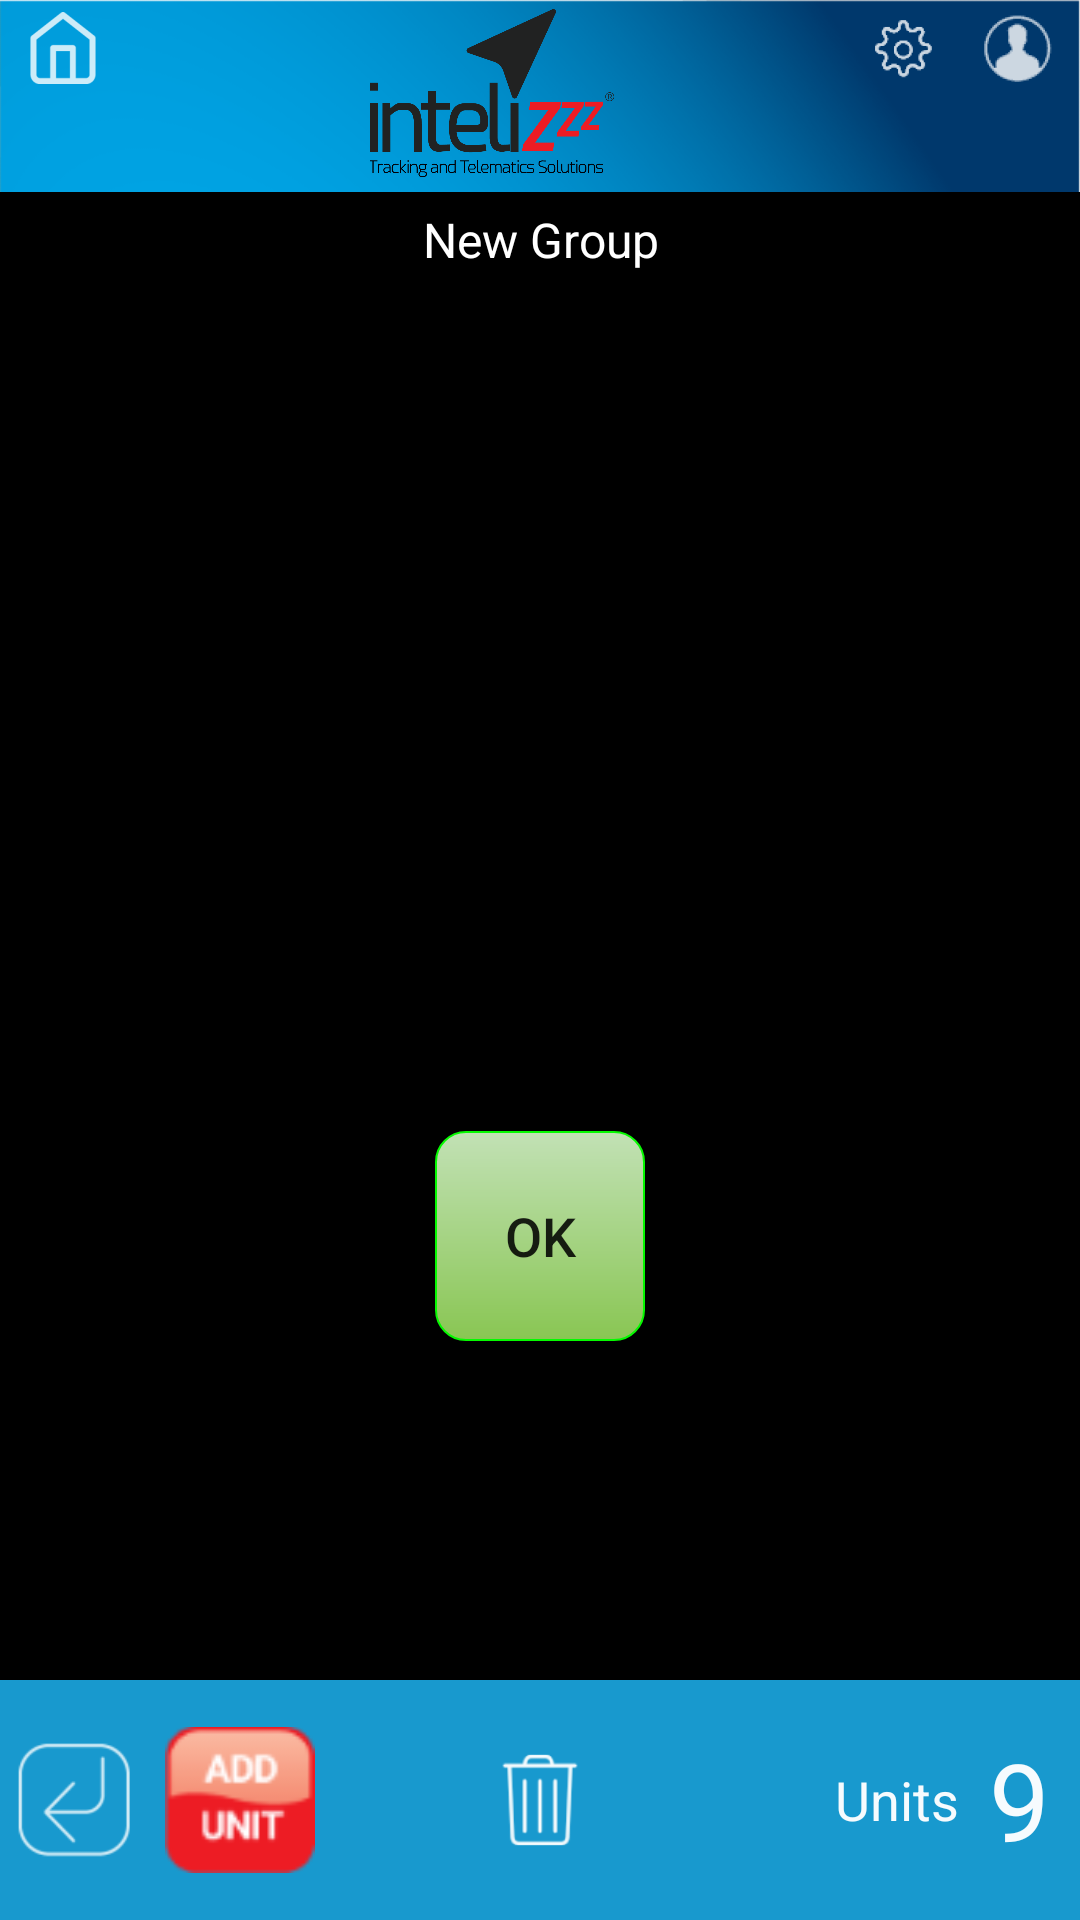

Icons on this 1080x1920 Android screen, each with the point to tap as (x=x, y=y):
back: (x=74, y=1800)
home: (x=63, y=48)
profile: (x=1018, y=48)
settings: (x=903, y=49)
